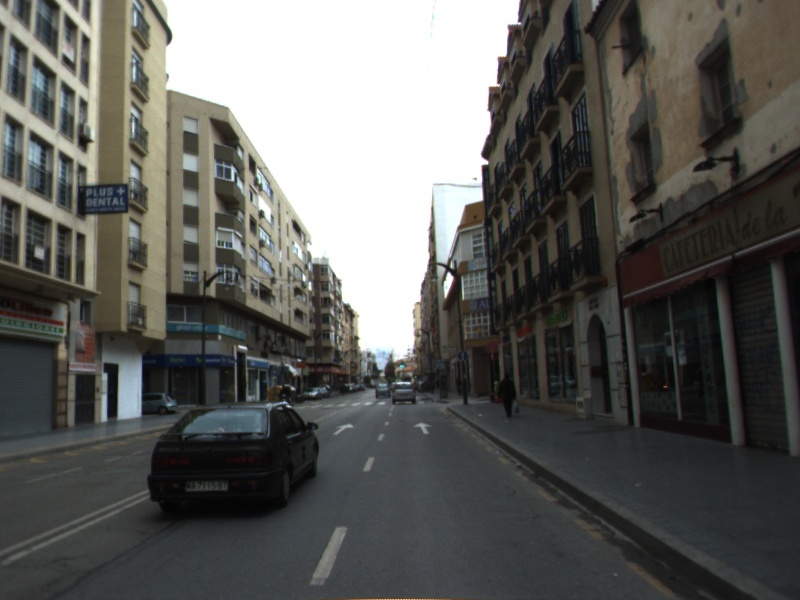STRAIGHT: (330, 420, 356, 437), (411, 420, 434, 436)
